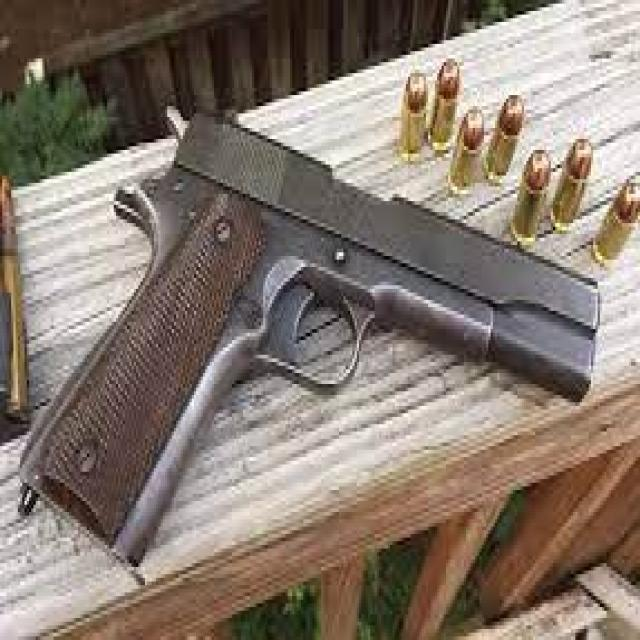semi automatic: (12, 70, 612, 572)
